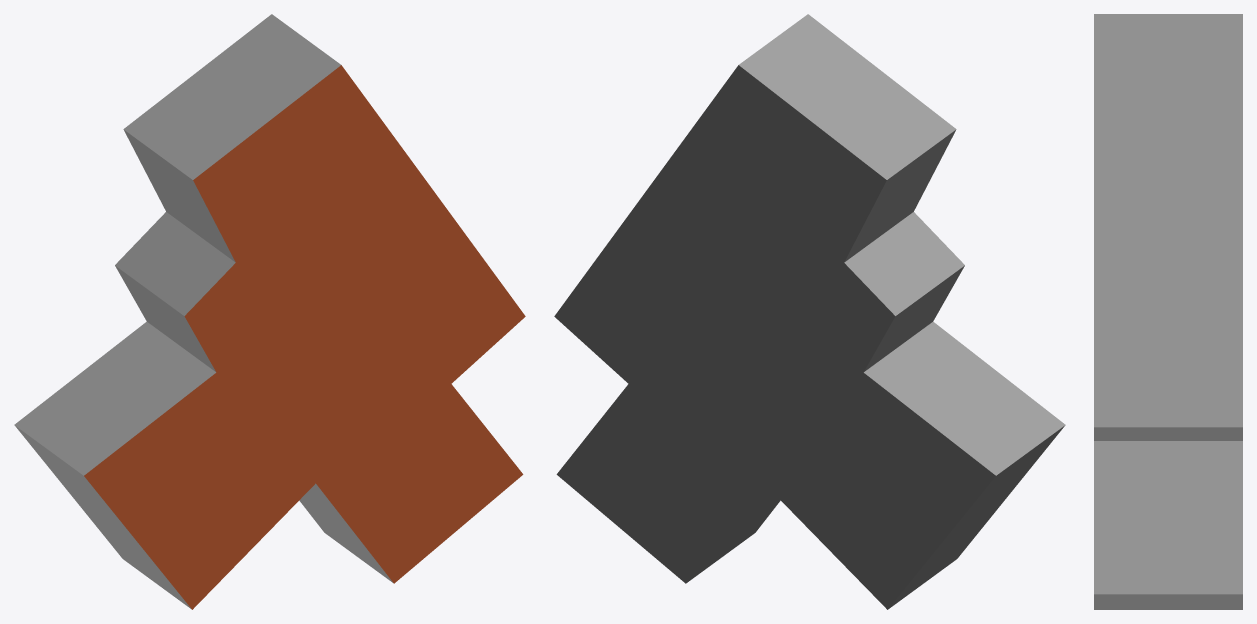
Rendered from construction_1374_assumed_A_Casa_h6m.obj.
3 renders of one model, left to right at view 1: azimuth 30°, elevation 25°; view 2: azimuth 150°, elevation 25°; view 3: azimuth 270°, elevation 25°, orthographic. The views are drawn at different scales.
Parts seen in each view (by area): view 1: construction_1374_assumed_A_Casa; view 2: construction_1374_assumed_A_Casa; view 3: construction_1374_assumed_A_Casa.
Part boxes in pixels (<box>): construction_1374_assumed_A_Casa: <box>14,14,525,609</box>; construction_1374_assumed_A_Casa: <box>554,14,1065,609</box>; construction_1374_assumed_A_Casa: <box>1094,14,1242,609</box>.
Bounding box in the file's own units: 21.98 × 25.27 × 6.
